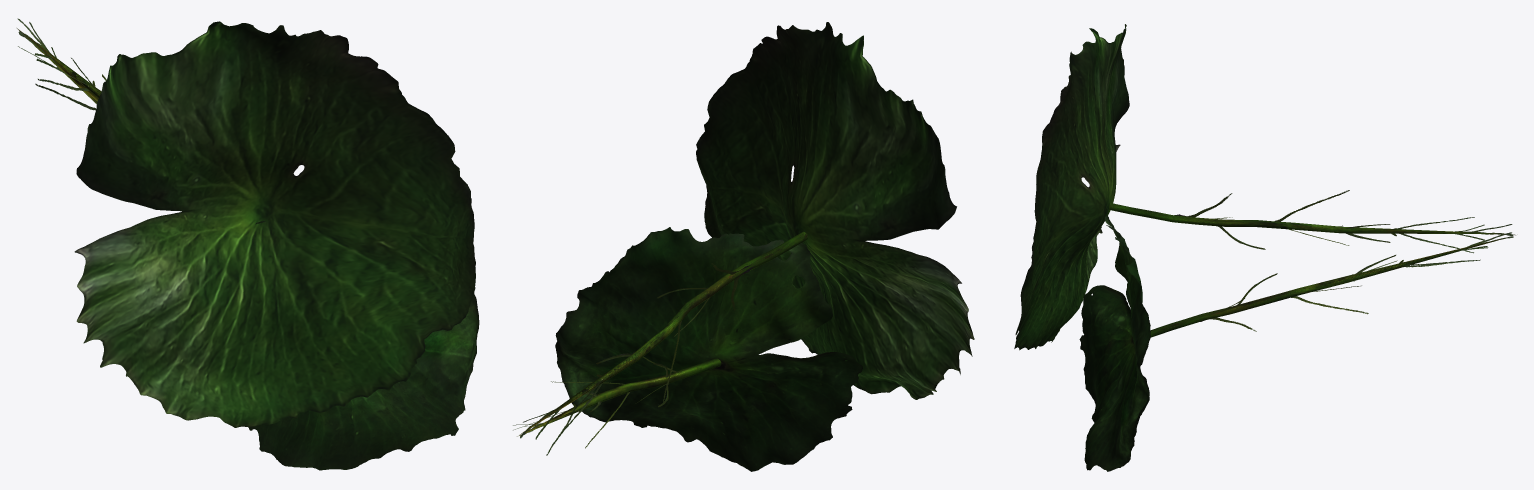
Rendered from LakeLily_Med.fbx.
3 views of the same model, side by side, from view 1: azimuth 30°, elevation 25°; view 2: azimuth 150°, elevation 25°; view 3: azimuth 270°, elevation 25° (orthographic). The views are drawn at different scales.
Visible parts, largest first — view 1: LOD0; view 2: LOD0; view 3: LOD0.
Part boxes in pixels (x1,y1,x2,y2): LOD0: [17, 18, 479, 470]; LOD0: [513, 22, 974, 471]; LOD0: [1014, 24, 1515, 471].
Size of the model in its own units: 5.21 by 5.72 by 7.11.
